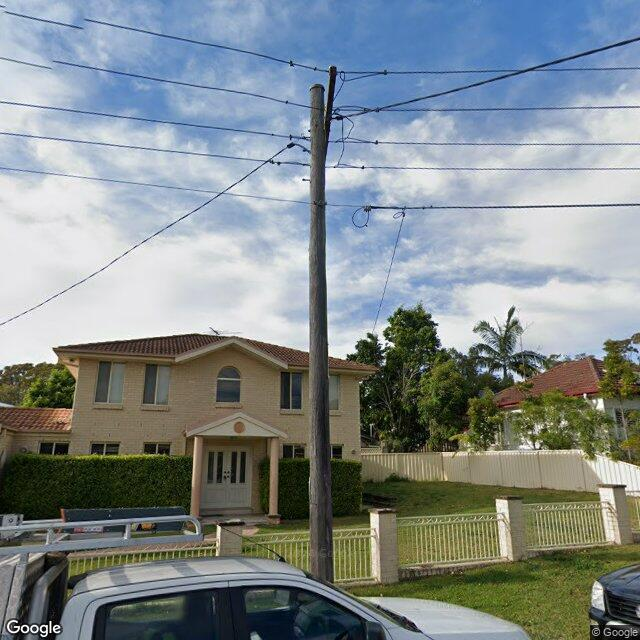crossarm: (323, 64, 338, 155)
timber-pole: (309, 84, 331, 574)
